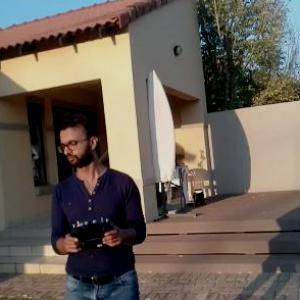follow: (46, 106, 149, 299)
